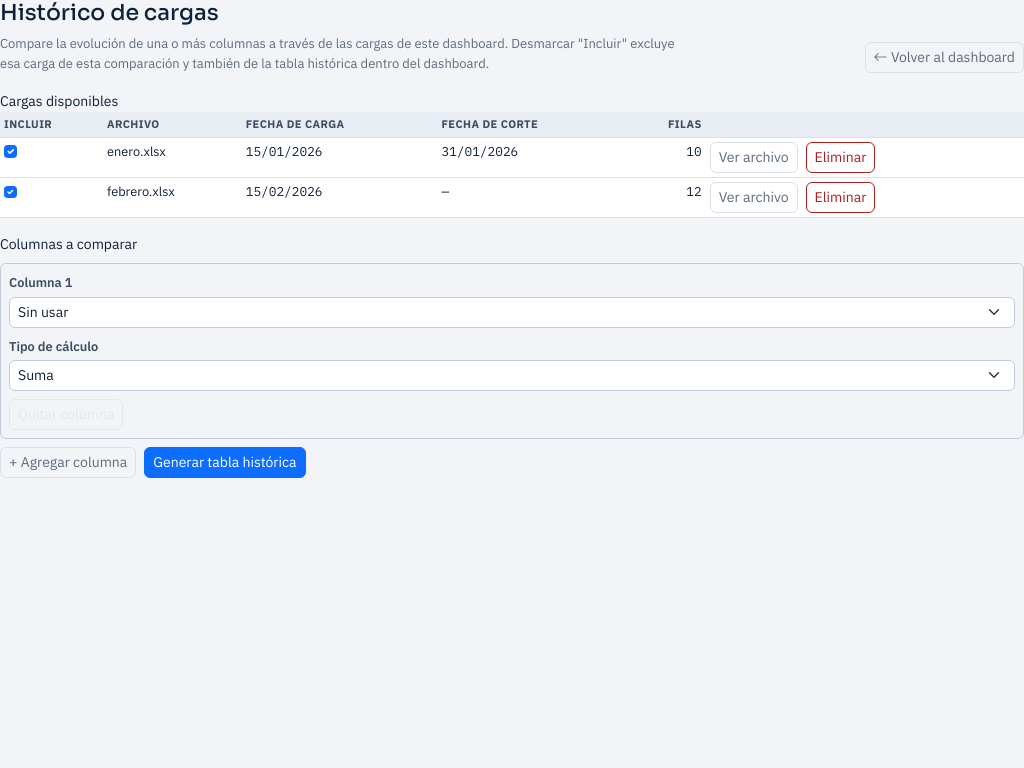
Test: DashboardHistoricoPage › "Ver archivo" abre un modal con todas las columnas y filas del archivo
Expected: the text "enero.xlsx" is shown, top-left (103, 137), bottom-right (242, 178)
Click the button "Ver archivo" in the row of "enero.xlsx": (754, 157) top-left (710, 142), bottom-right (798, 173)
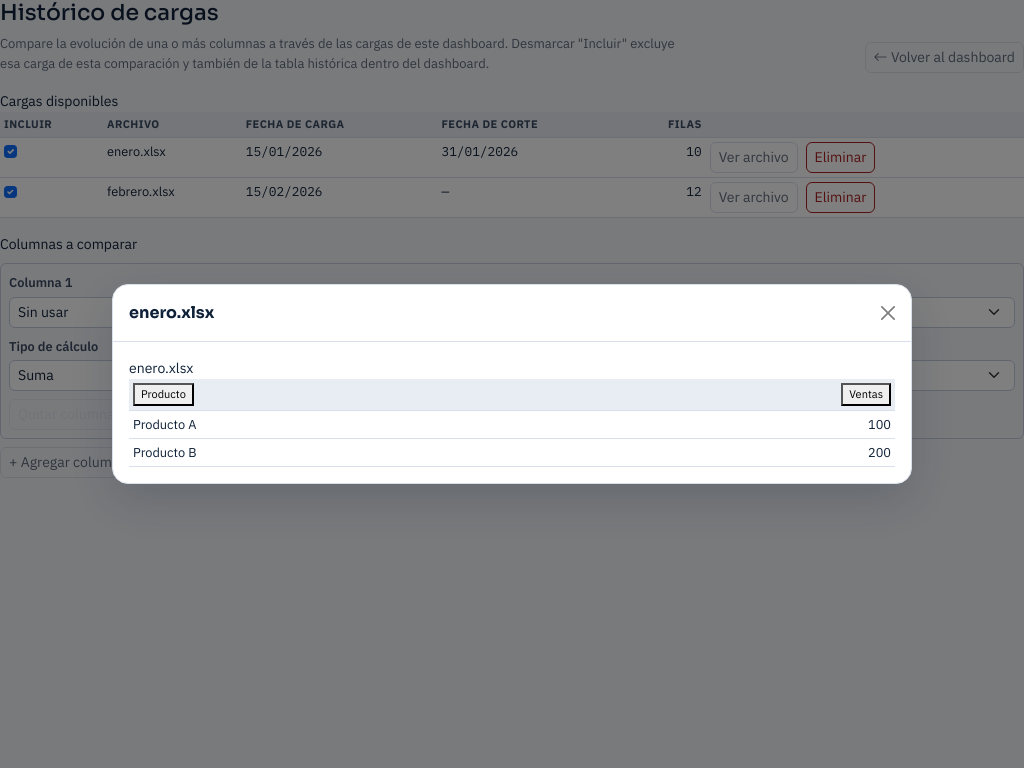
Now the text "Producto A" is shown, box top-left (129, 410), bottom-right (553, 438)
Now the text "Producto B" is shown, box top-left (129, 438), bottom-right (553, 466)
